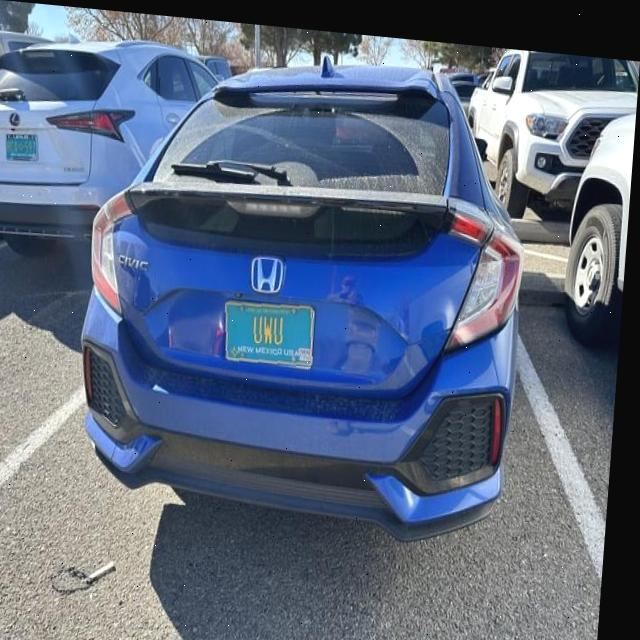LicensePlate: (230, 297, 319, 361)
